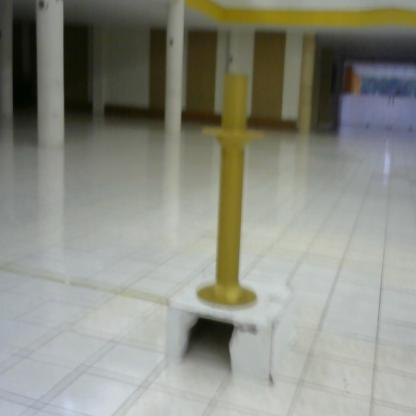pole: (201, 71, 266, 316)
